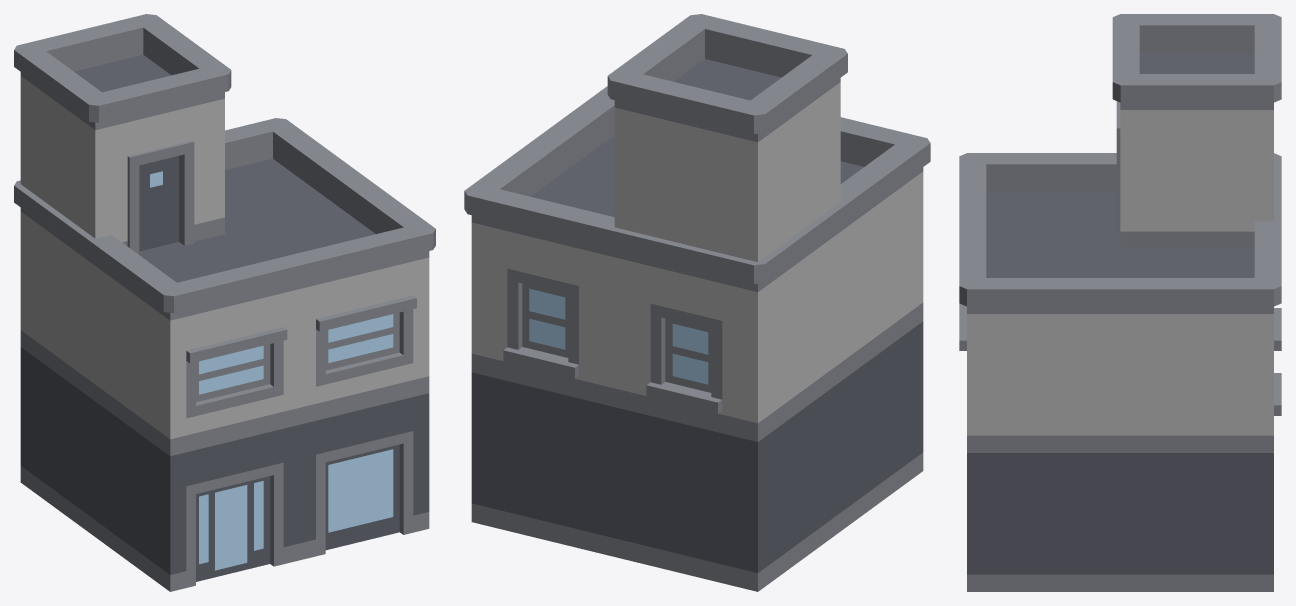
File: Small Building F.glb
3 views of the same model, side by side, from view 1: azimuth 30°, elevation 25°; view 2: azimuth 150°, elevation 25°; view 3: azimuth 270°, elevation 25° (orthographic). The views are drawn at different scales.
Visible parts, largest first — view 1: small_buildingF; view 2: small_buildingF; view 3: small_buildingF.
Boxes of the visible parts, x1,y1,x2,y2 form: small_buildingF: (14,14,435,591); small_buildingF: (464,14,930,591); small_buildingF: (959,14,1281,591).
Bounding box in the file's own units: 0.84 × 1.28 × 0.84.
